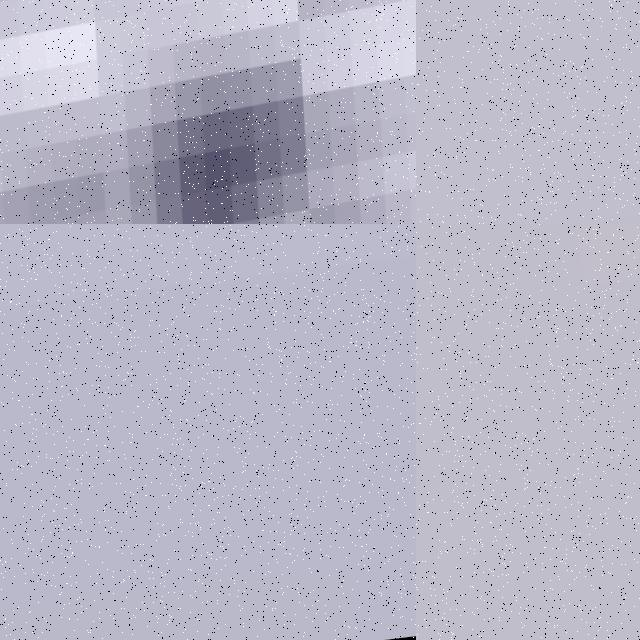drone: (0, 0, 416, 224)
